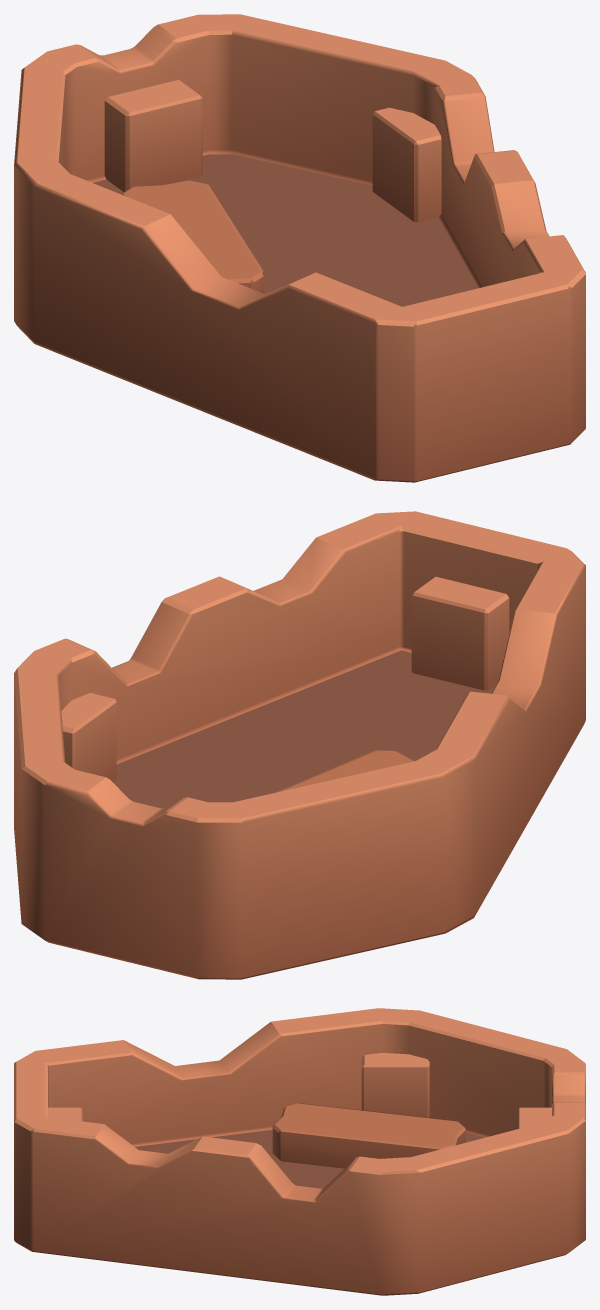
Rendered from kenney-graveyard__coffin-old.glb.
3 renders of one model, top to bottom at view 1: azimuth 30°, elevation 25°; view 2: azimuth 150°, elevation 25°; view 3: azimuth 270°, elevation 25°, orthographic. The views are drawn at different scales.
Parts seen in each view (by area): view 1: coffin-old; view 2: coffin-old; view 3: coffin-old.
Part boxes in pixels (x1,y1,x2,y2): coffin-old: (14, 14, 585, 482); coffin-old: (14, 511, 585, 979); coffin-old: (14, 1008, 585, 1295).
Bounding box in the file's own units: 0.5738 × 0.2 × 0.8378.
1 material, 1 textured.
